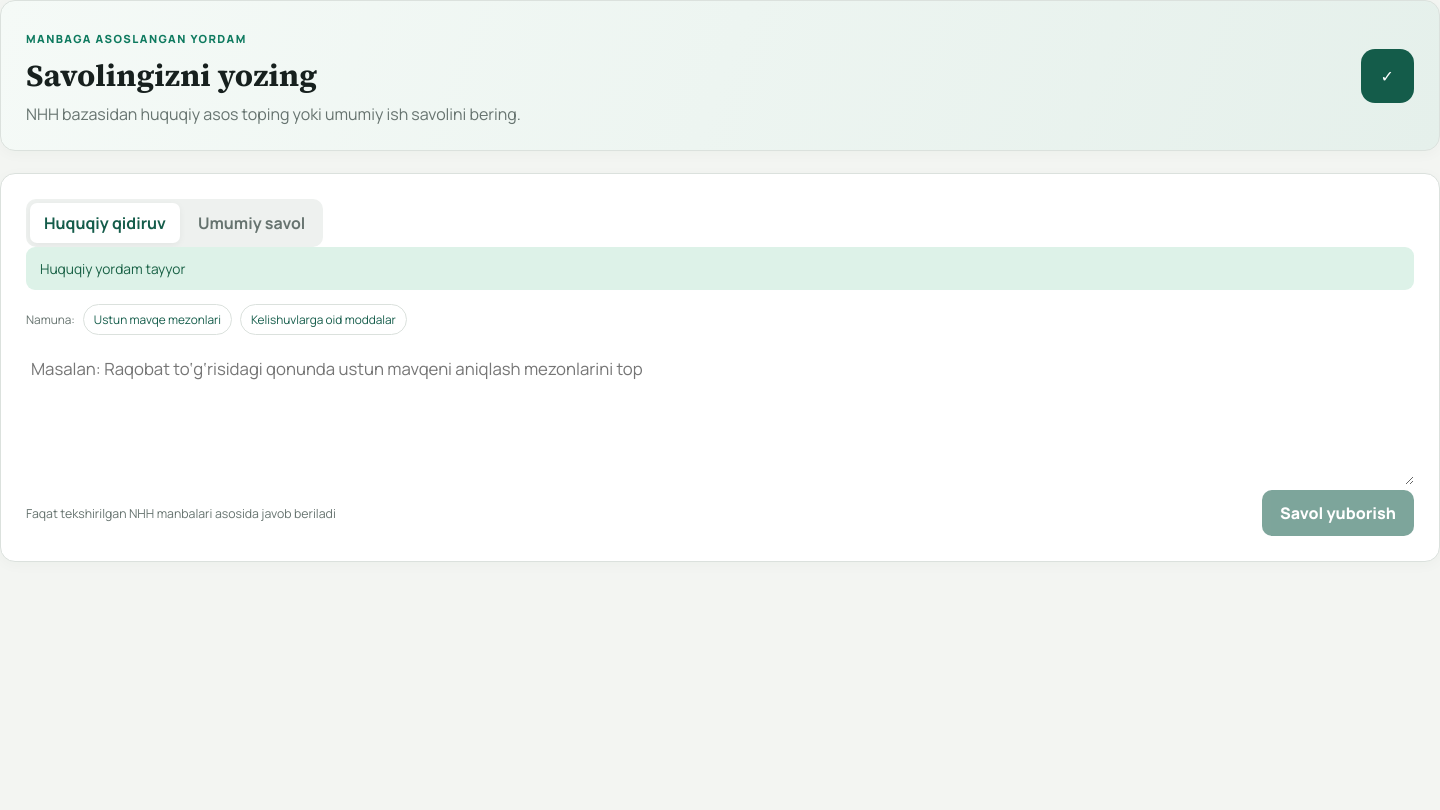
Test: Chat reliability states › ignores a cancelled request A even if it resolves after request B
Expected: the text "Huquqiy yordam tayyor" is shown, [26, 247, 1414, 290]
Type "A savol" into the text box.
click(720, 410); type("A savol")  # box [26, 335, 1414, 485]
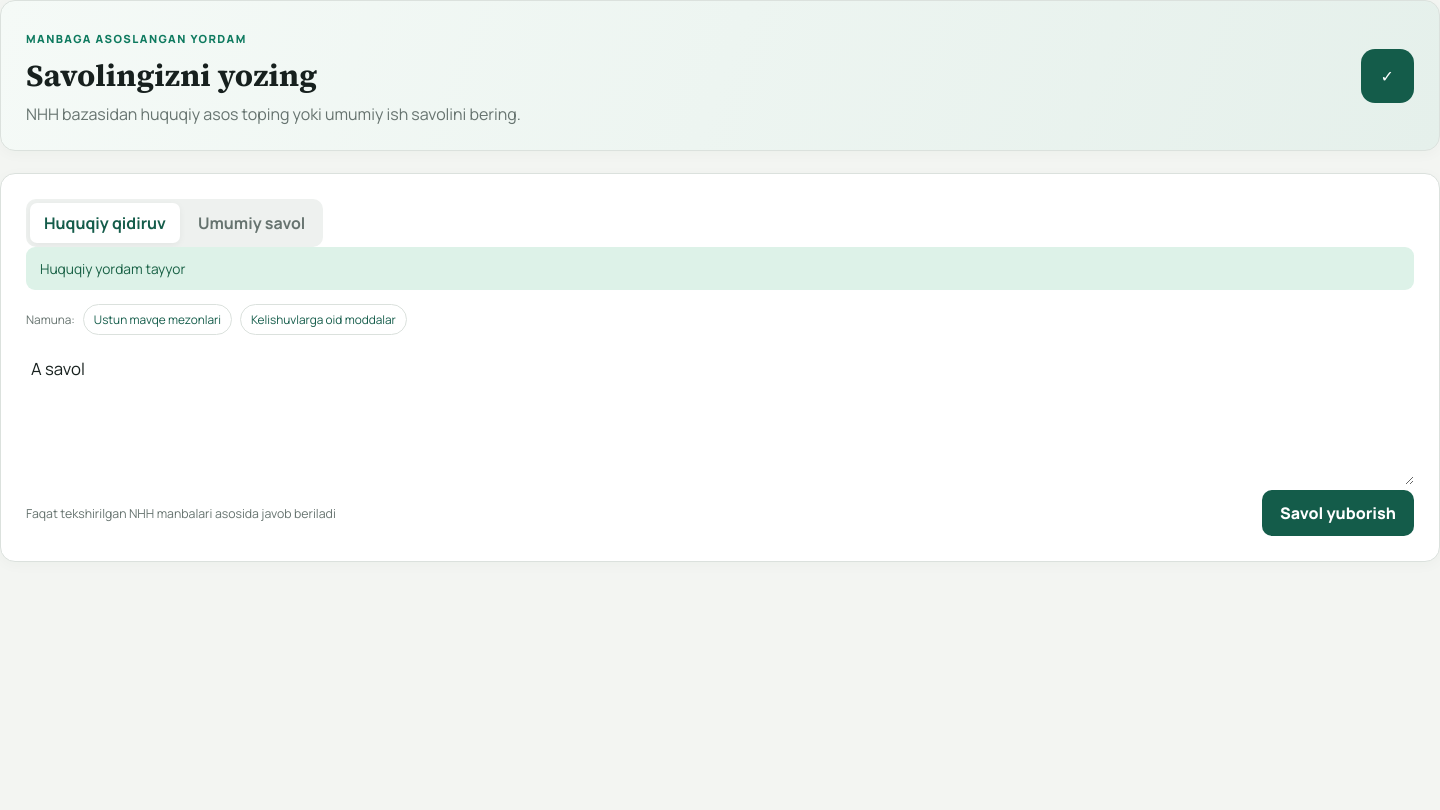
Click the button "Savol yuborish".
click(1338, 513)  # box [1262, 490, 1414, 536]
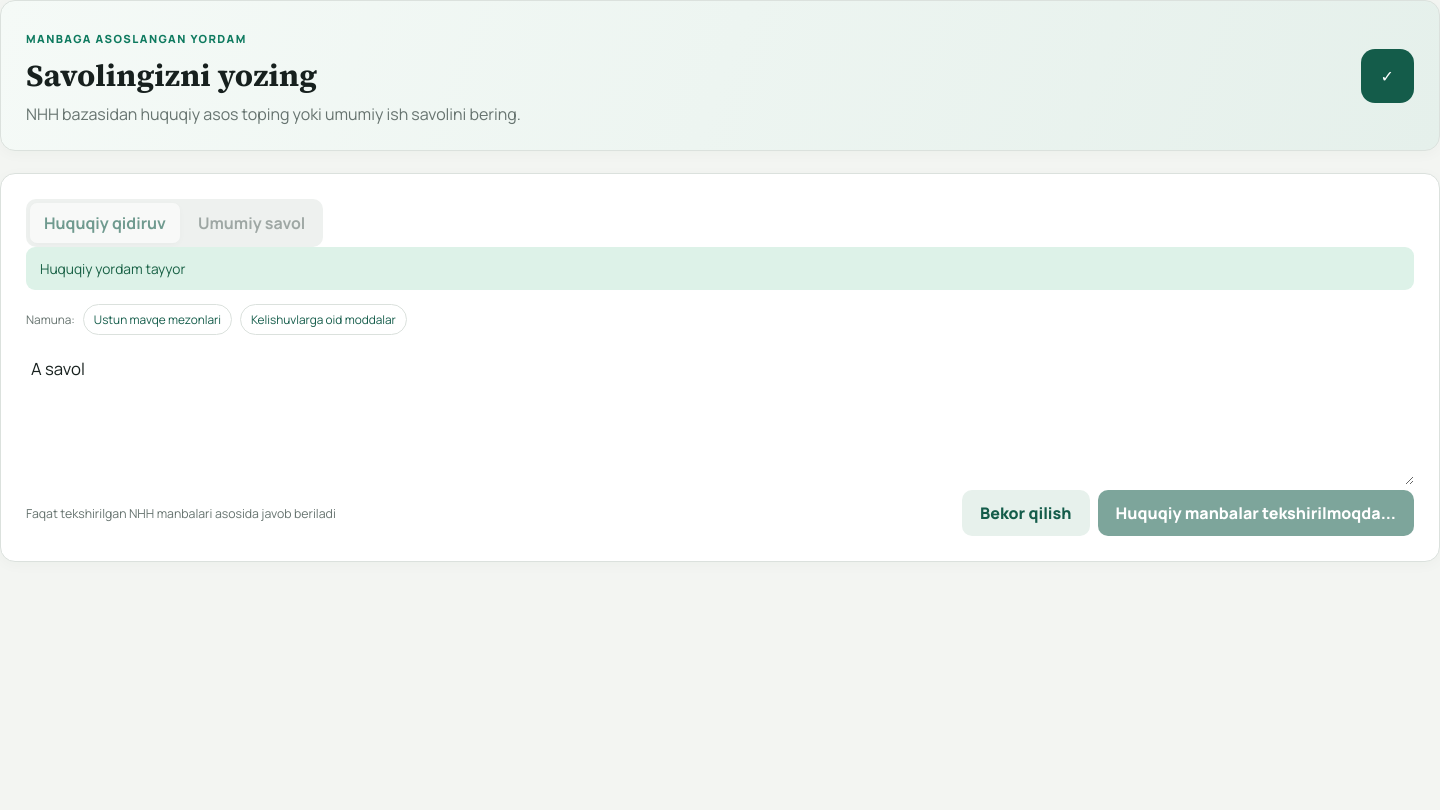
Click the button "Bekor qilish".
click(1026, 513)  # box [962, 490, 1090, 536]
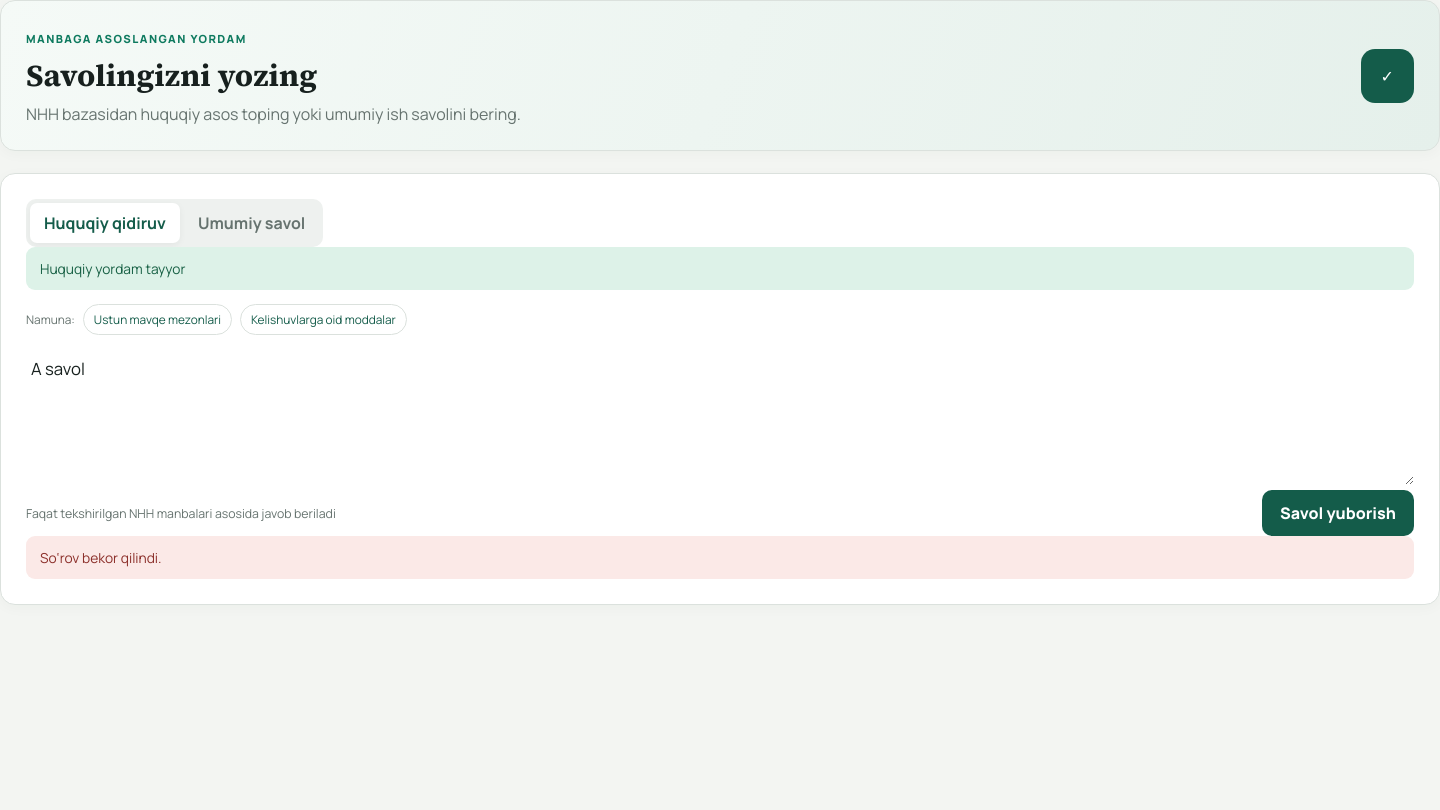
Expected: the message shows "So‘rov bekor qilindi", [40, 548, 162, 567]
Replace the text in the text box with "B savol" at (720, 410), box [26, 335, 1414, 485]
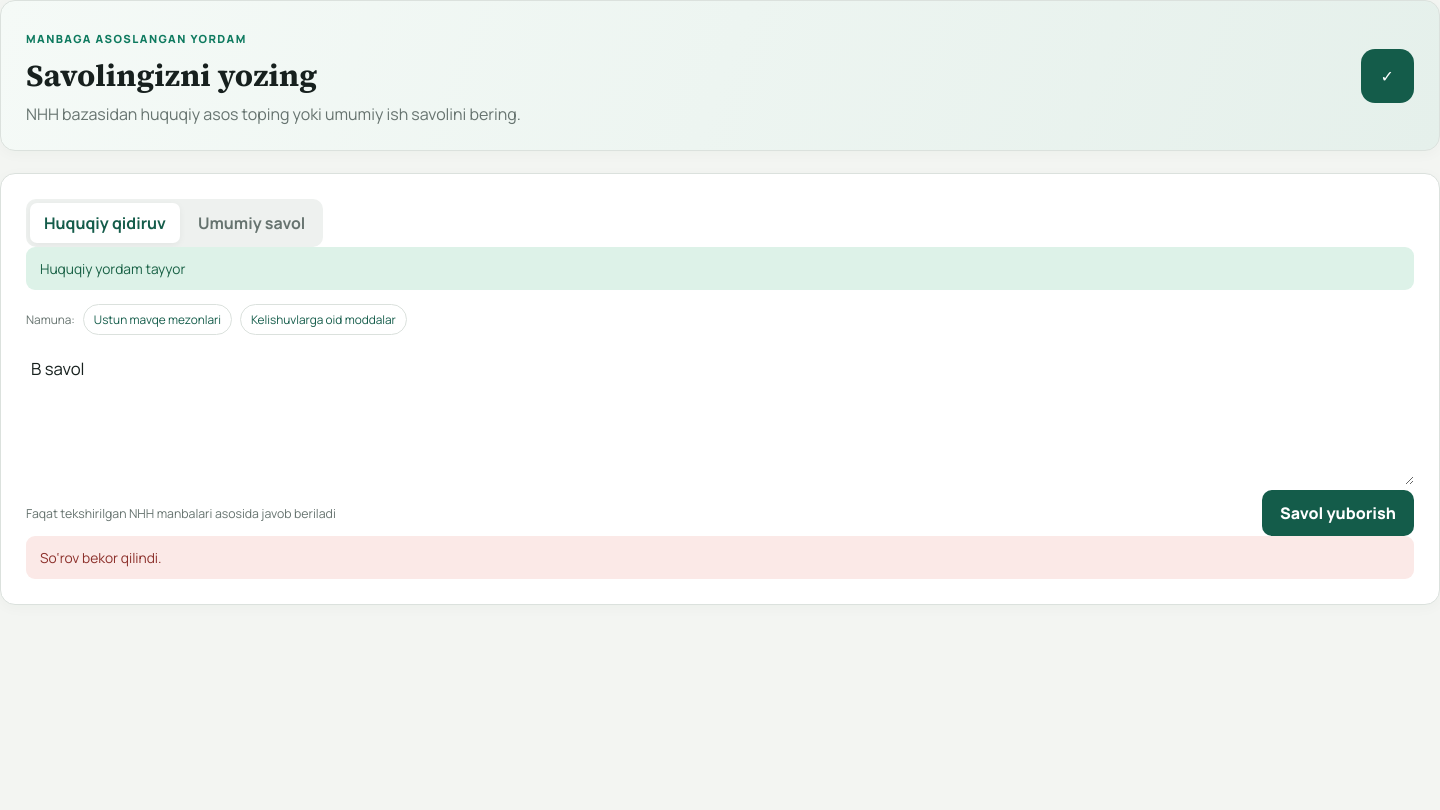
Click the button "Savol yuborish".
click(1338, 513)  # box [1262, 490, 1414, 536]
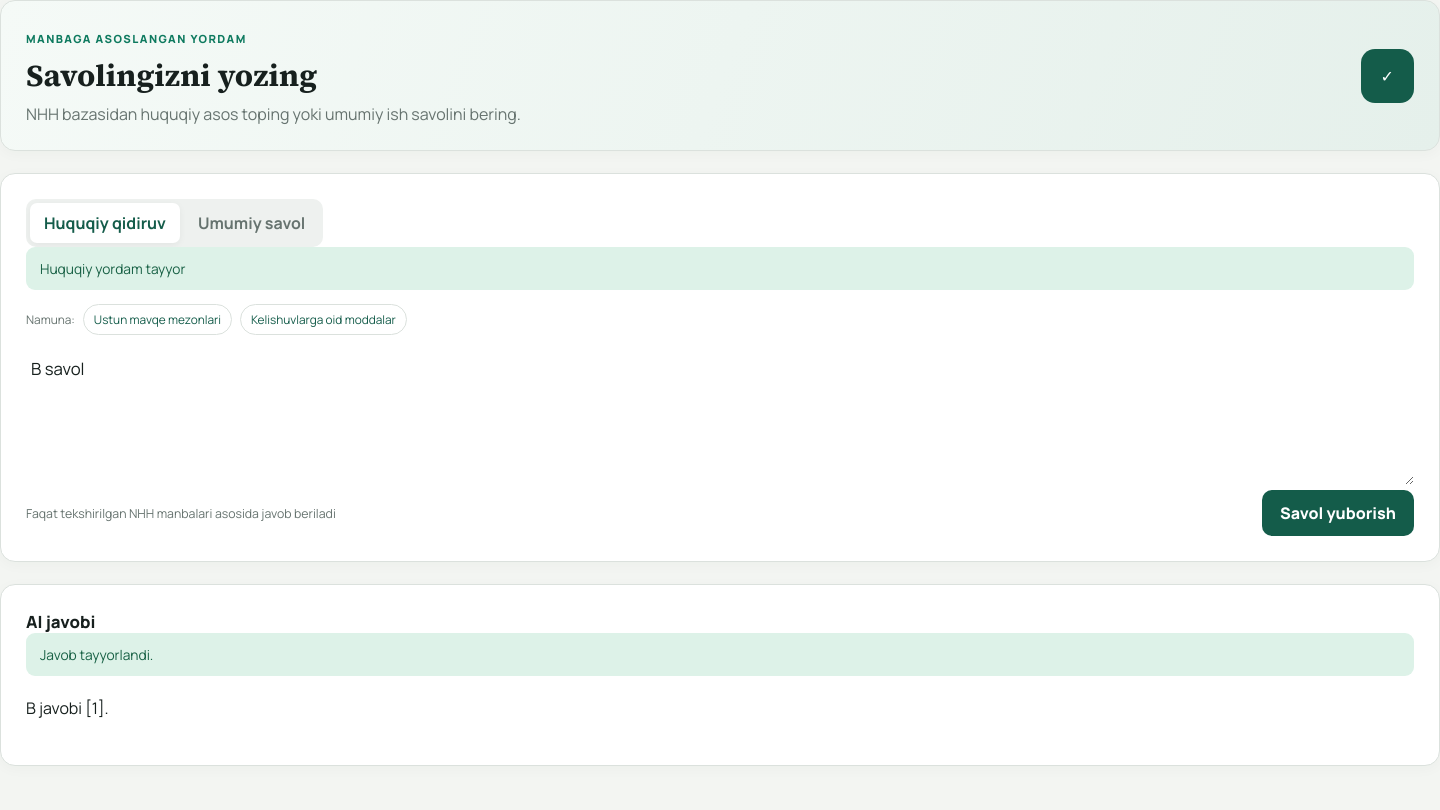
Expected: the text "B javobi [1]." is shown, [26, 697, 109, 719]
